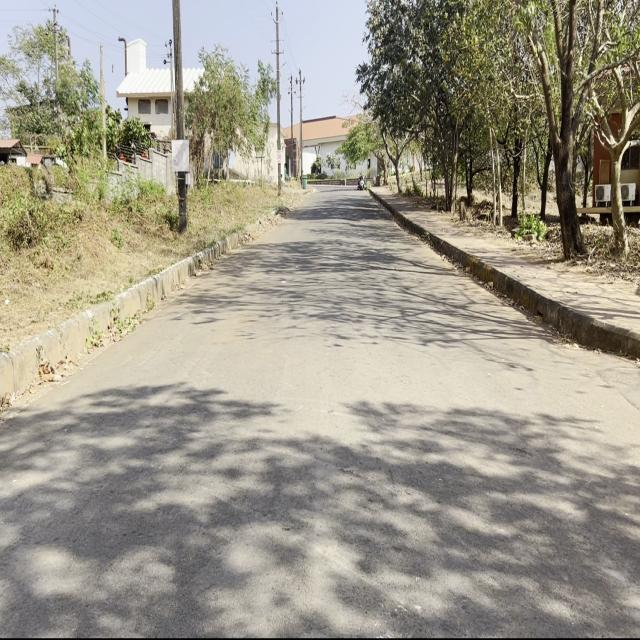Road: (5, 189, 638, 632)
